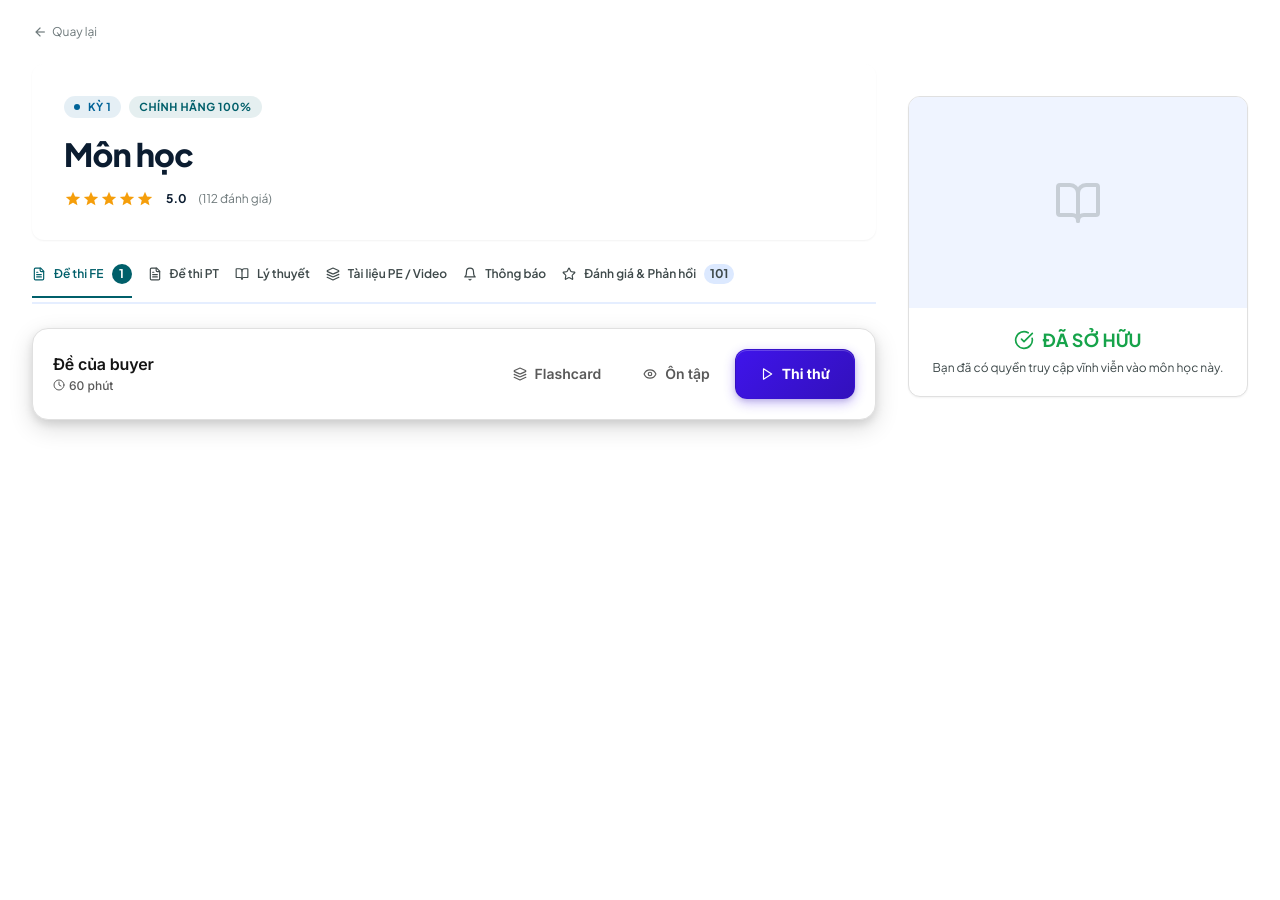
Test case: loads only opened datasets and reuses a fresh tab without signing unopened previews
Expected: the heading "Đề của buyer" is shown, x1=53 y1=354 x2=154 y2=374
Click the button with id "tab-theory" at (272, 281), box x1=235 y1=264 x2=310 y2=298
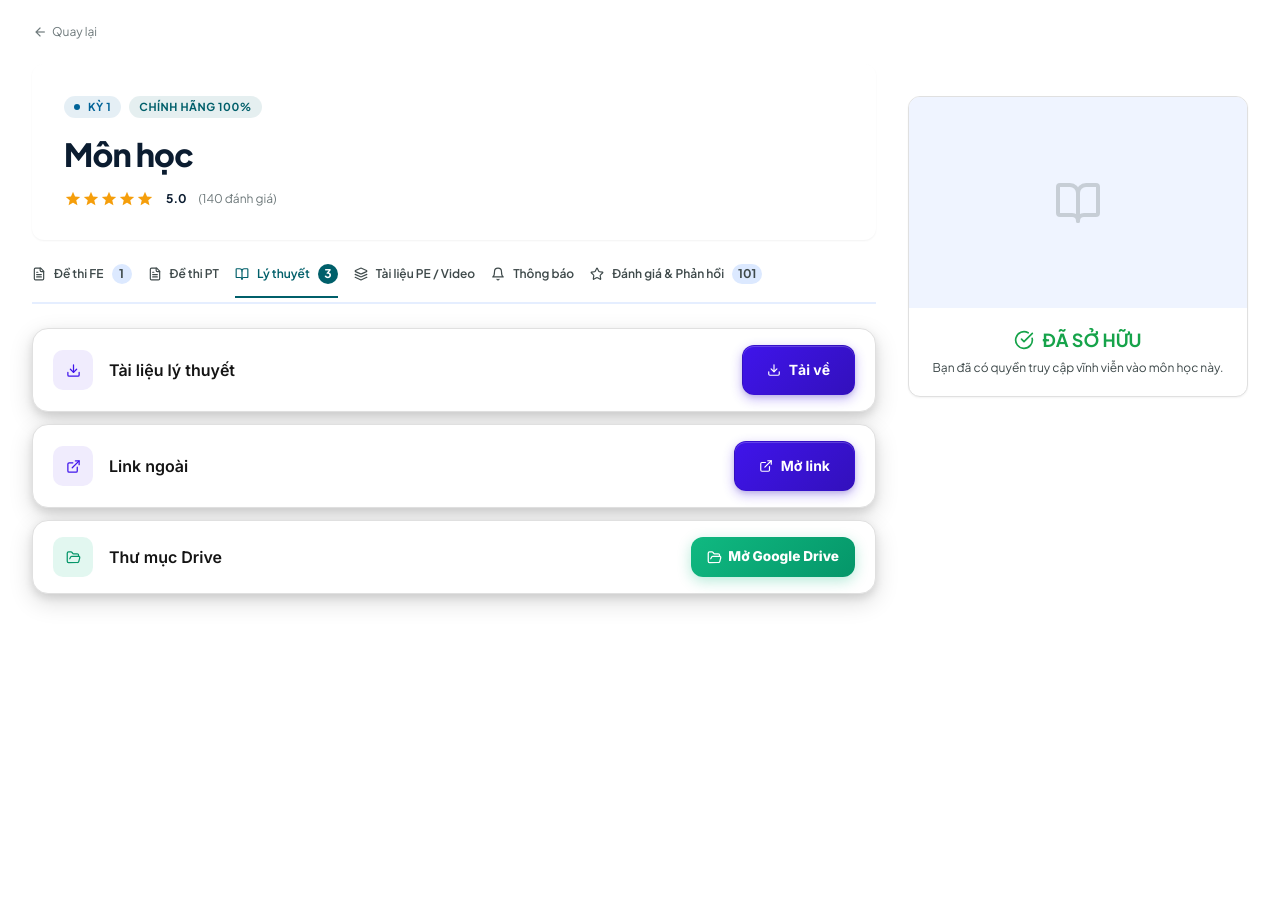
Expected: the text "Tài liệu lý thuyết" is shown, x1=109 y1=360 x2=235 y2=380
Click the button with id "tab-pe" at (414, 281), box x1=354 y1=264 x2=475 y2=298
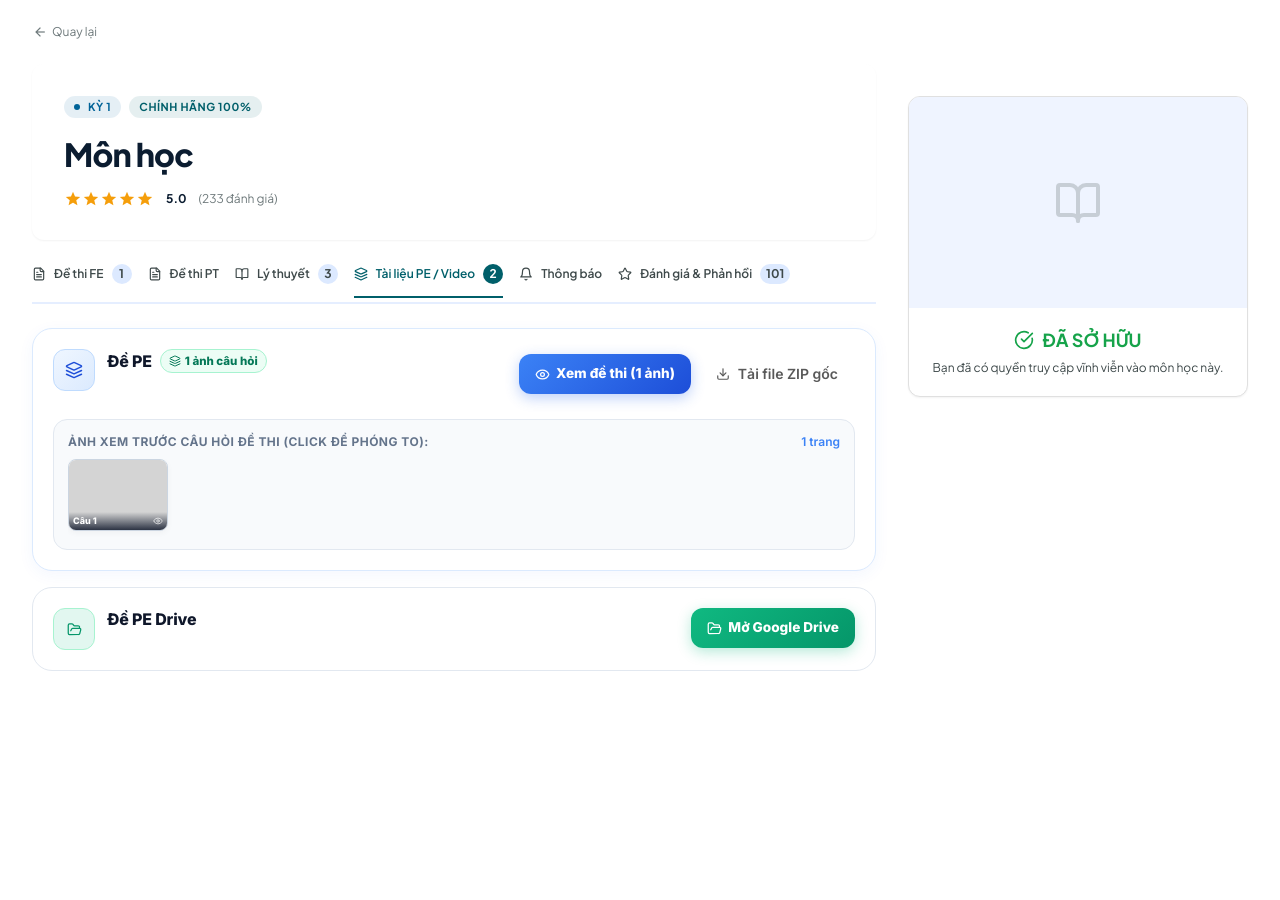
Expected: the button "Tải file ZIP gốc" is shown, x1=699 y1=349 x2=855 y2=399
Click the button with id "tab-theory" at (286, 281), box x1=235 y1=264 x2=338 y2=298
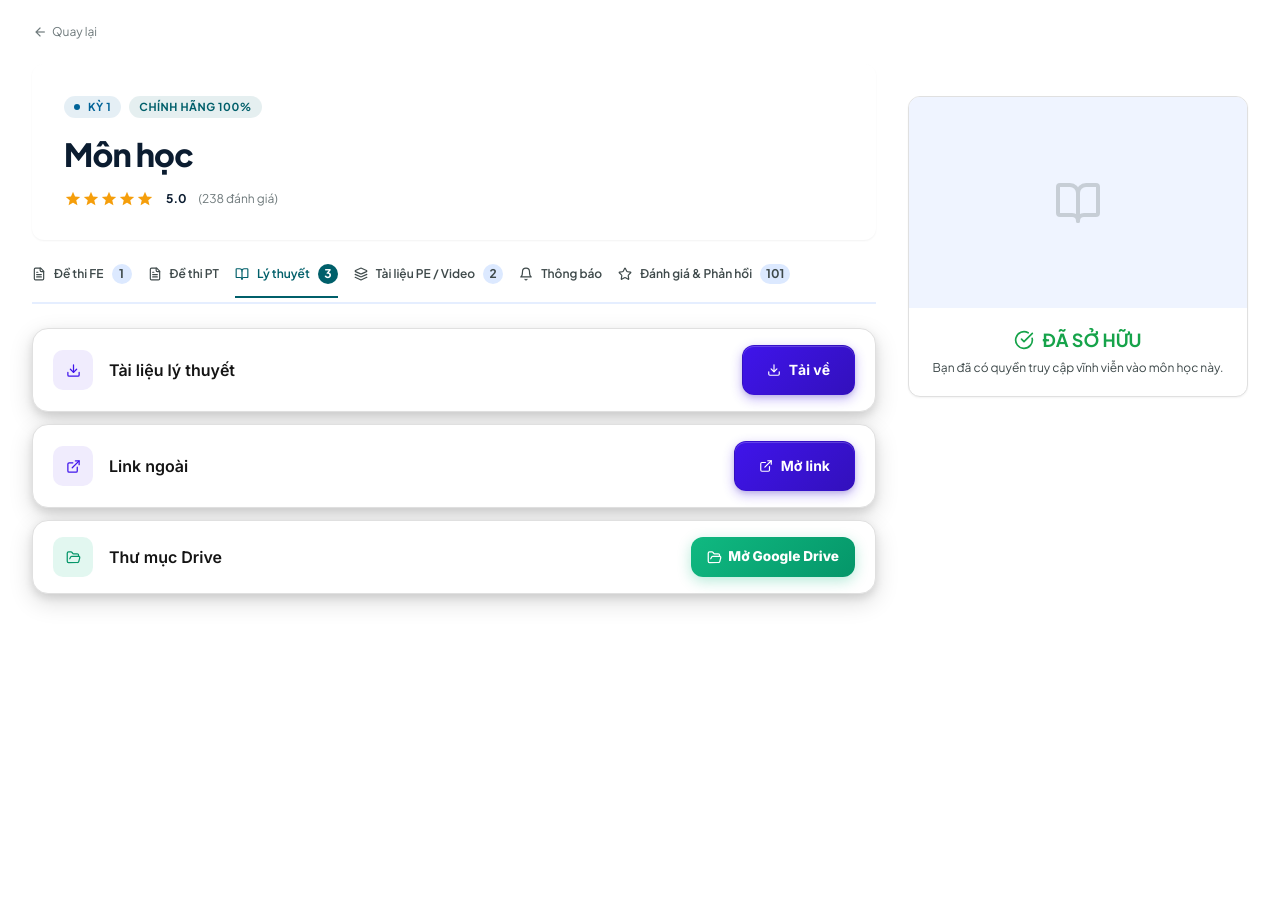
Expected: the text "Tài liệu lý thuyết" is shown, x1=109 y1=360 x2=235 y2=380
Click the button with id "tab-announcements" at (561, 281), box x1=519 y1=264 x2=602 y2=298
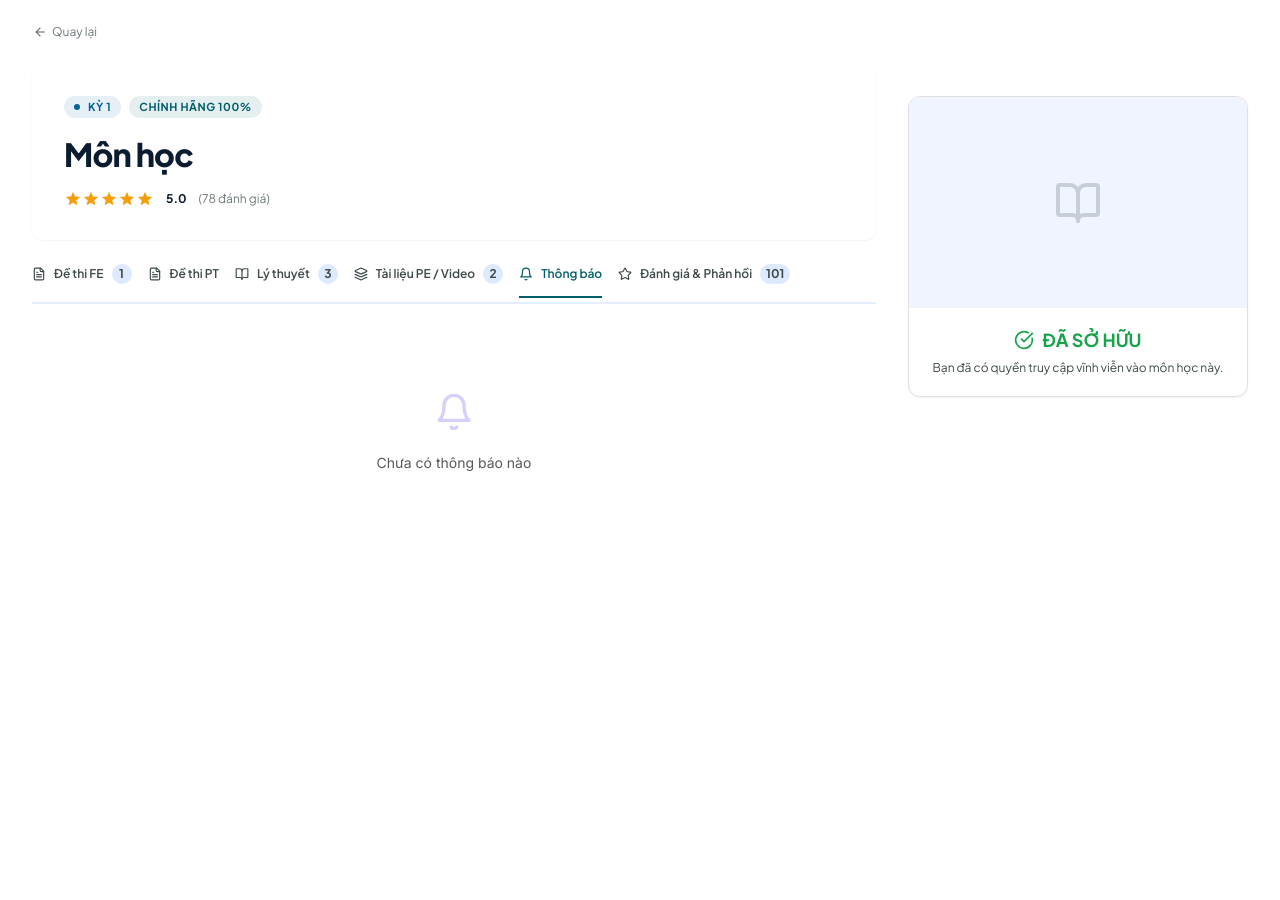
Expected: the text "Chưa có thông báo nào" is shown, x1=377 y1=452 x2=531 y2=474
